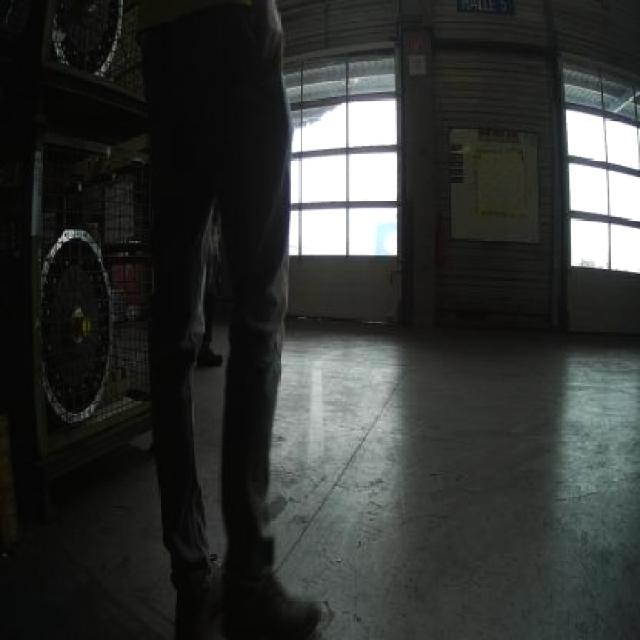floor: (269, 320, 637, 637), (0, 435, 172, 637), (194, 366, 222, 557)
